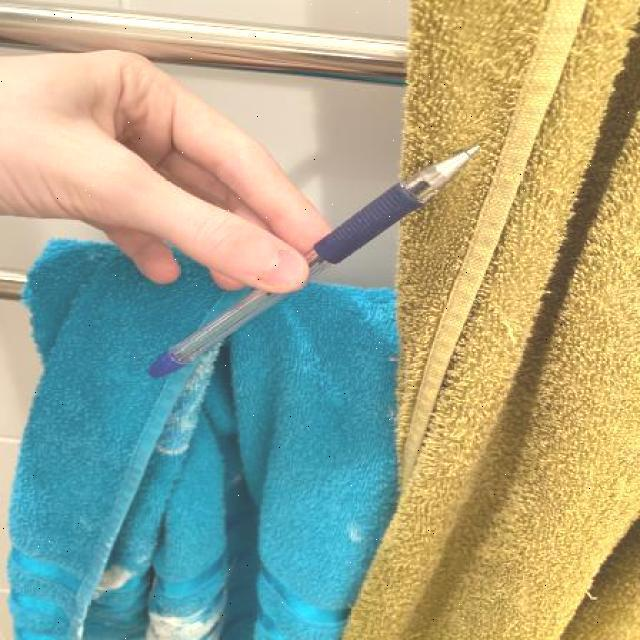pen: (148, 144, 483, 381)
